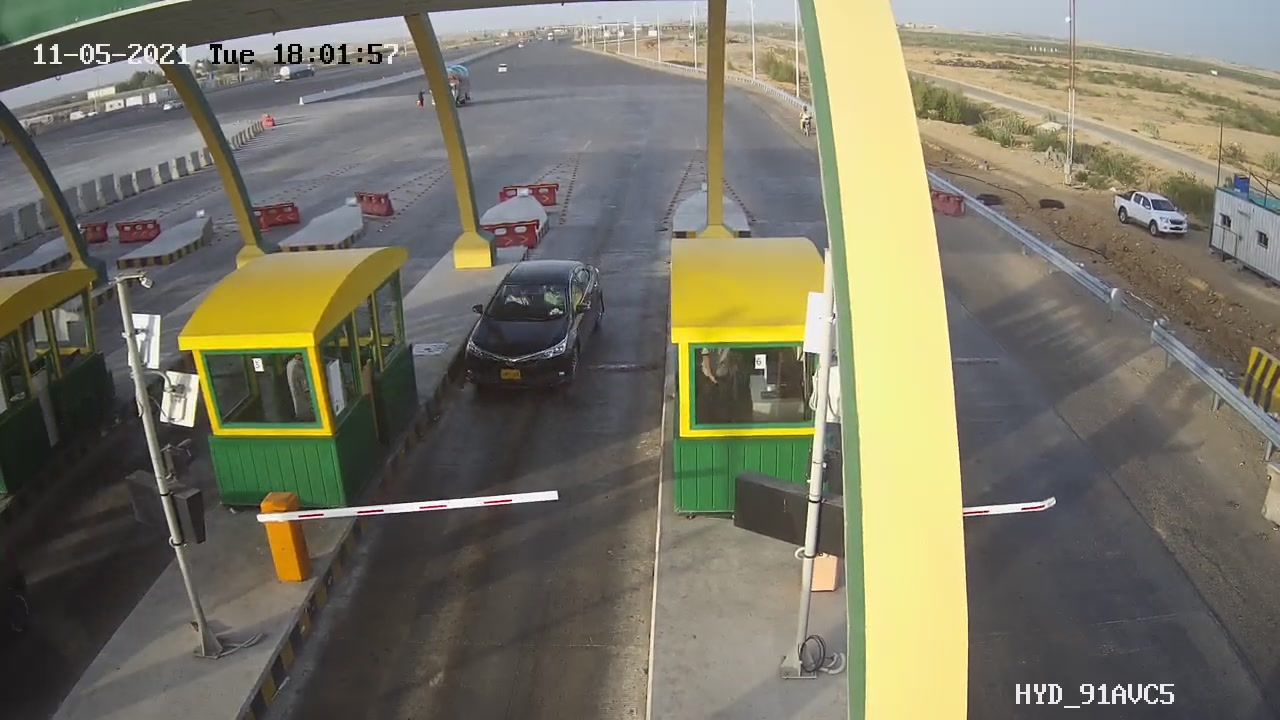F1: (450, 247, 617, 413)
